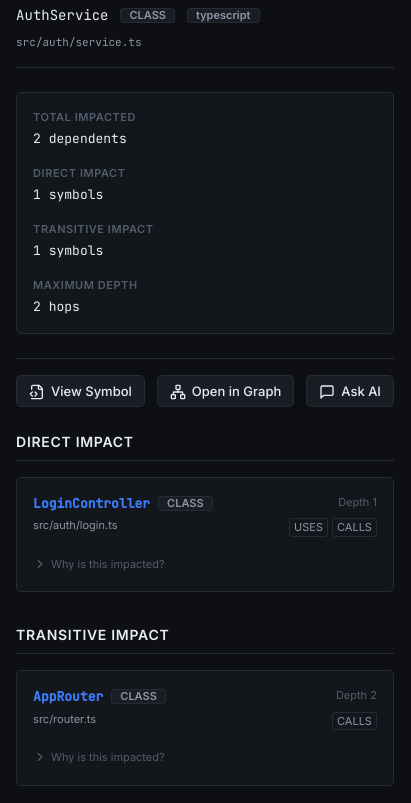
Test: ImpactPage - Impact Analysis Engine › expands and renders impact path evidence correctly
(page scrolled)
Expected: the link "LoginController" is shown, top-left (33, 494), bottom-right (150, 513)
// Expand AppRouter path (transitive)
Click the button "Why is this impacted?" below "src/router.ts" at (99, 757), box top-left (33, 750), bottom-right (165, 764)
(page scrolled)
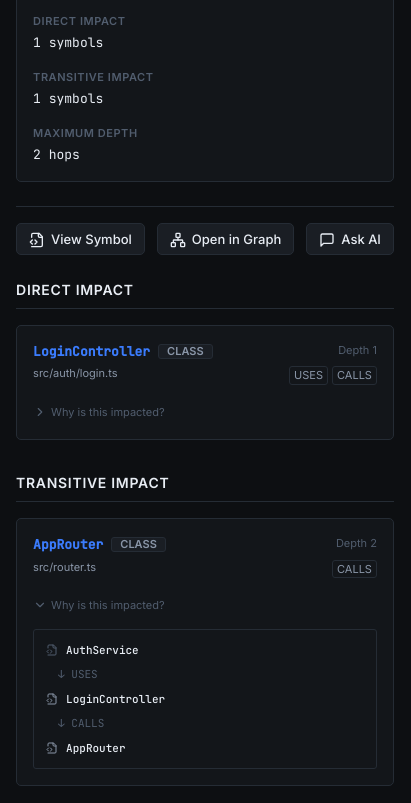
Result: the text "↓ USES" is shown at top-left (58, 667), bottom-right (98, 681)
